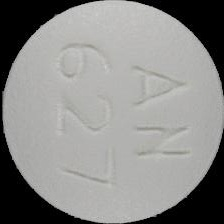63187-063: (0, 0, 224, 224)
